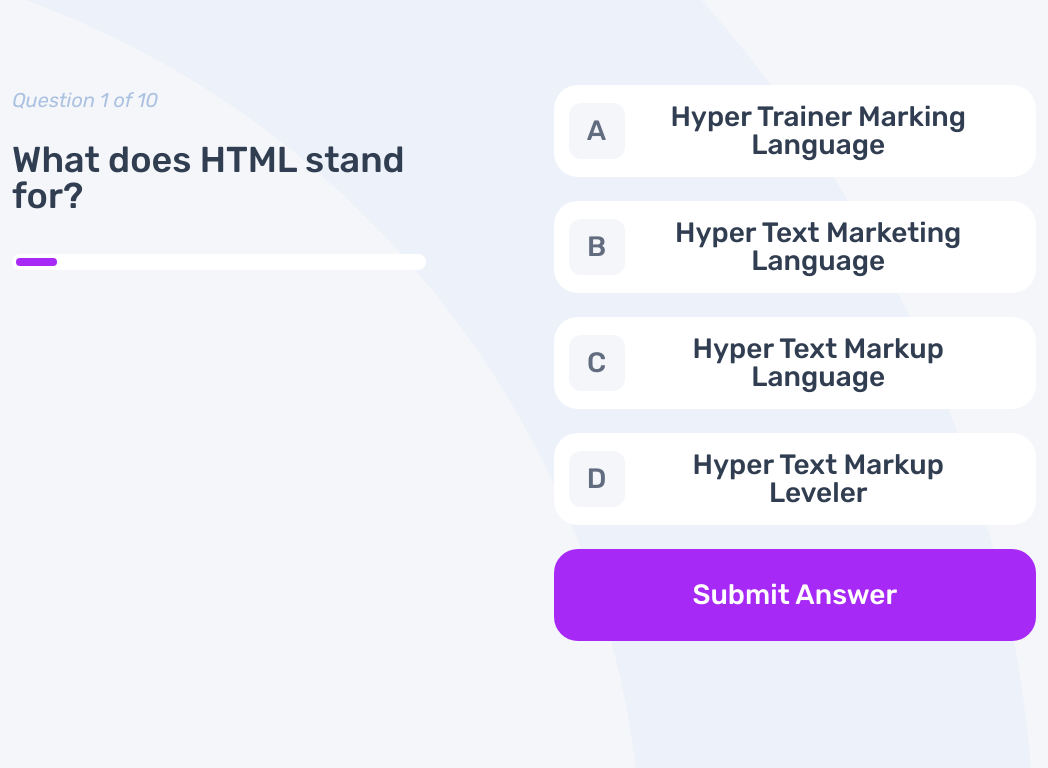
Test: Quiz › shows validation message until user selects an answer
Click the button "Submit Answer": (795, 595) top-left (554, 549), bottom-right (1036, 641)
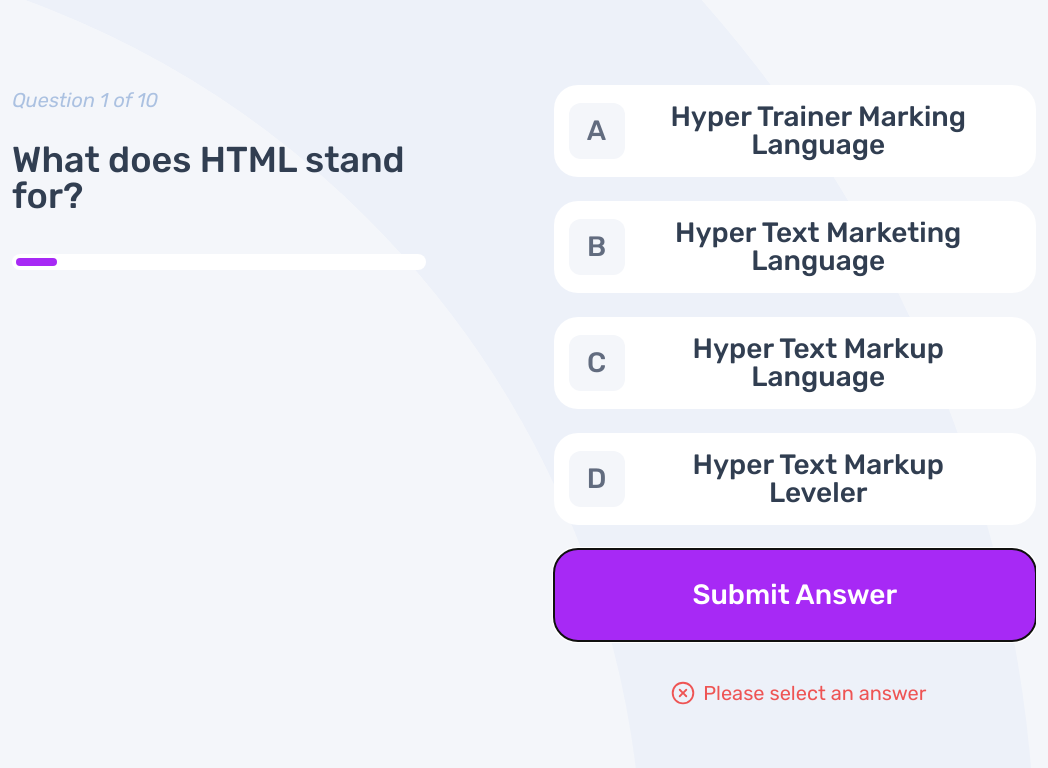
Check: the text "Please select an answer" is shown, box top-left (703, 678), bottom-right (926, 708)
Click the text "Hyper Trainer Marking Language": (818, 131) top-left (648, 103), bottom-right (988, 159)
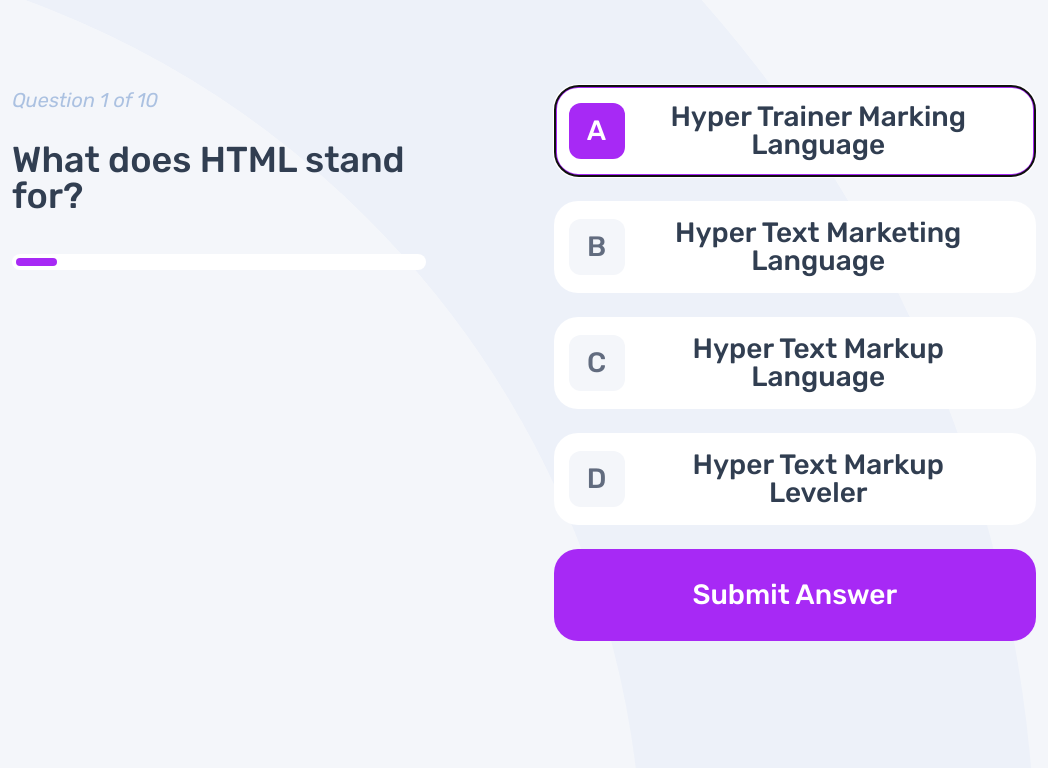
Check: the text "Please select an answer" is gone
